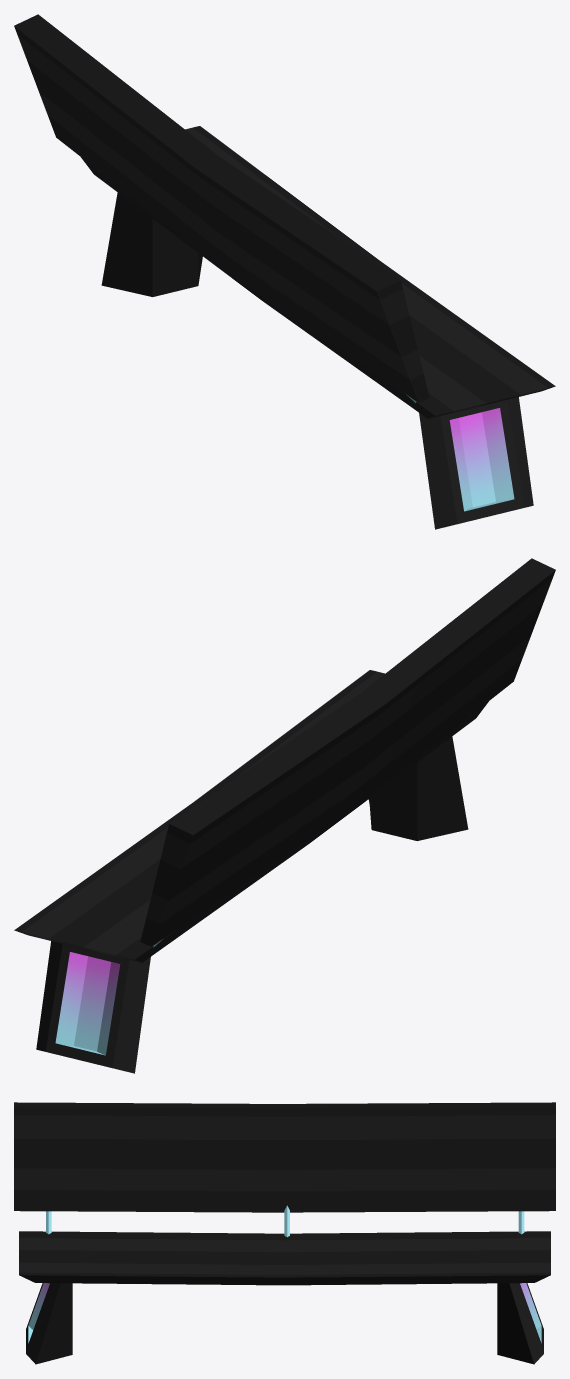
Rendered from bench_01.fbx.
3 renders of one model, top to bottom at view 1: azimuth 30°, elevation 25°; view 2: azimuth 150°, elevation 25°; view 3: azimuth 270°, elevation 25°, orthographic. The views are drawn at different scales.
Visible parts, largest first — view 1: pCube28; view 2: pCube28; view 3: pCube28.
Part boxes in pixels (x1,y1,x2,y2): pCube28: [14, 14, 555, 529]; pCube28: [14, 558, 555, 1073]; pCube28: [14, 1102, 555, 1364].
Bounding box in the file's own units: 11.57 × 16.04 × 38.7.
Materials: 1 (1 with a texture image).
